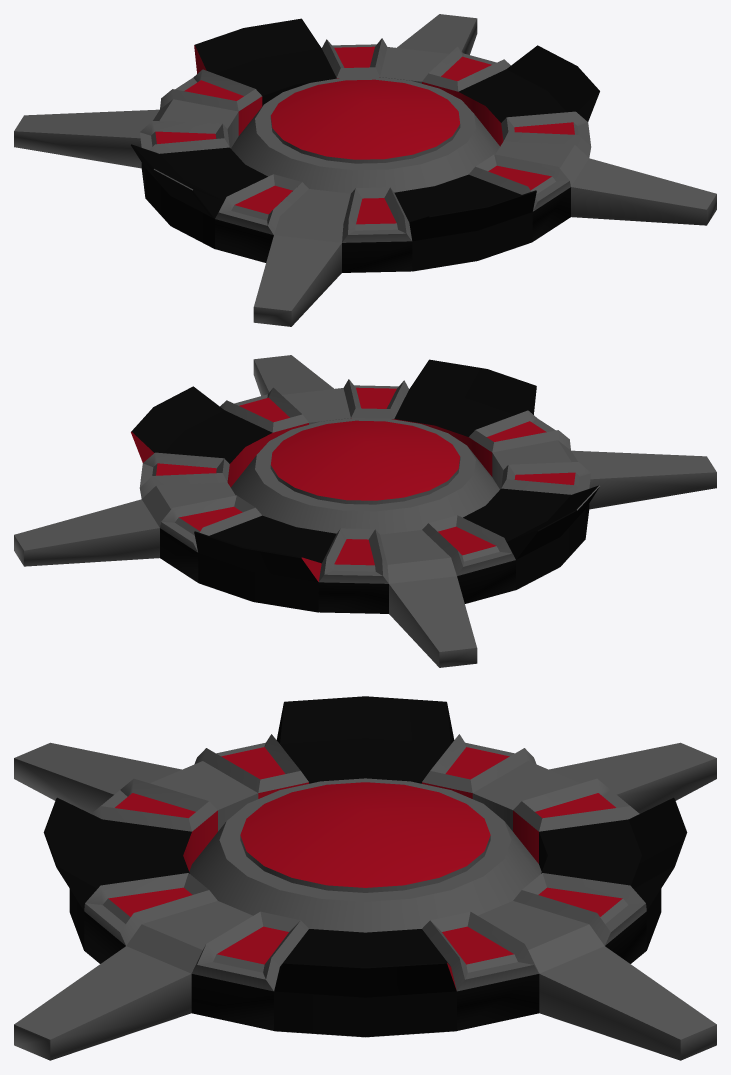
Rendered from Mina.fbx.
3 views of the same model, one above another, from view 1: azimuth 30°, elevation 25°; view 2: azimuth 150°, elevation 25°; view 3: azimuth 270°, elevation 25° (orthographic). The views are drawn at different scales.
Visible parts, largest first — view 1: mina; view 2: mina; view 3: mina.
Part boxes in pixels (<box>): mina: <box>14,14,716,326</box>; mina: <box>14,355,716,667</box>; mina: <box>14,696,716,1060</box>.
Bounding box in the file's own units: 26.32 × 4.24 × 26.32.
